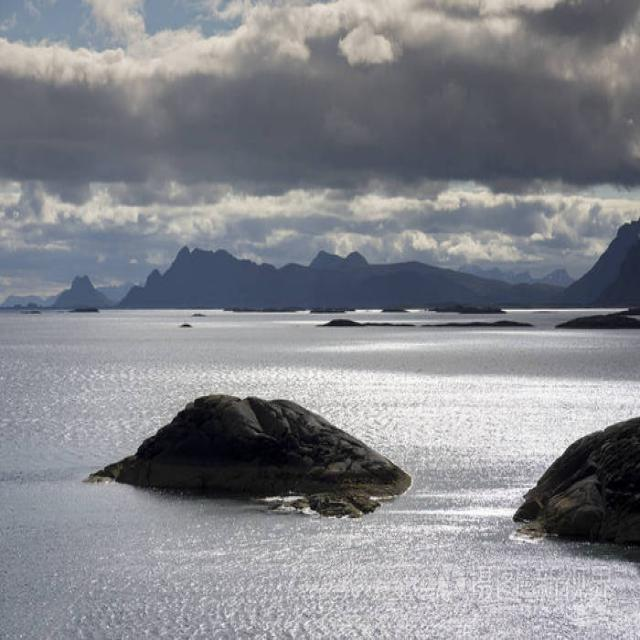reef: (90, 399, 478, 615), (319, 299, 516, 349)
